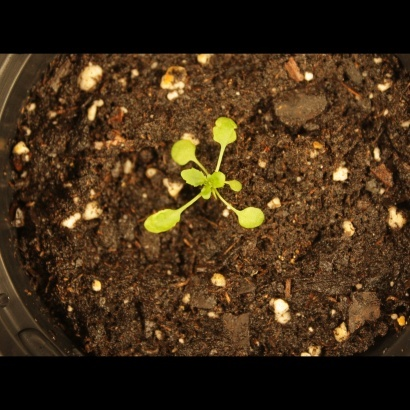leaf: (138, 206, 190, 236), (210, 112, 241, 155), (230, 204, 270, 233), (167, 137, 200, 168), (176, 166, 207, 189), (226, 174, 249, 197), (207, 168, 230, 191), (196, 185, 219, 208)
